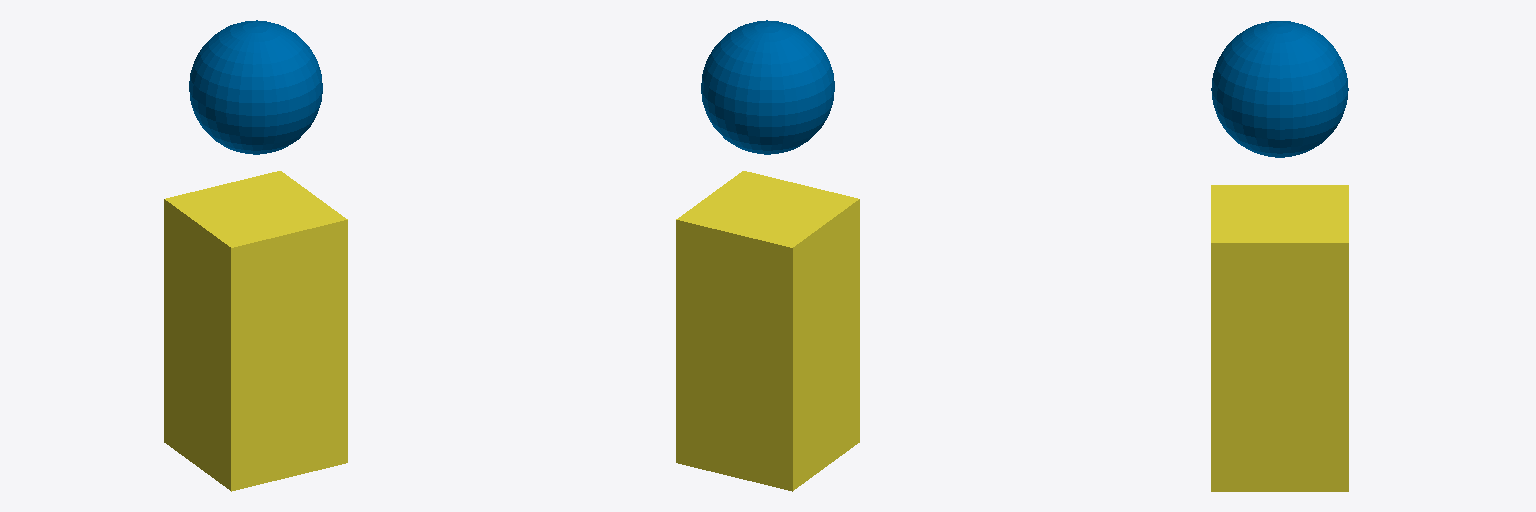
URDF robot description (branching_geometry):
<?xml version="1.0" ?>
<robot name="branching_geometry">

  <joint name="world_joint" type="fixed">
    <parent link="world"/>
    <child link="base_link"/>
    <origin rpy="0.0 0.0 0.0" xyz="0.0 0.0 0.0"/>
  </joint>
  <joint name="stub_joint" type="fixed">
    <parent link="base_link"/>
    <child link="stub_link"/>
    <origin rpy="0.0 0.0 0.0" xyz="0.1 0.0 0.0"/>
  </joint>
  <joint name="joint1" type="continuous">
    <parent link="base_link"/>
    <child link="link1"/>
    <origin rpy="0.0 0.0 0.0" xyz="0.0 0.0 0.1"/>
    <axis xyz="0 0 1"/>
  </joint>
  <joint name="joint2" type="continuous">
    <parent link="link1"/>
    <child link="link2"/>
    <origin rpy="0.0 0.0 0.0" xyz="0.0 0.0 0.2"/>
    <axis xyz="0 1 0"/>
  </joint>
  <joint name="leafA_joint" type="fixed">
    <parent link="link2"/>
    <child link="leafA_link"/>
    <origin rpy="0 0 0" xyz="0.05 0 0"/>
  </joint>
  <joint name="leafB_joint" type="fixed">
    <parent link="link2"/>
    <child link="leafB_link"/>
    <origin rpy="0 0 0" xyz="-0.05 0 0"/>
  </joint>

  <link name="world"/>
  <link name="base_link">
    <inertial>
      <mass value="1.0"/>
      <origin rpy="0 0 0" xyz="0.0 0.0 0.0"/>
      <inertia ixx="0.01" ixy="0.0" ixz="0.0" iyy="0.01" iyz="0.0" izz="0.01"/>
    </inertial>
  </link>
  <link name="stub_link"/>
  <link name="link1">
    <inertial>
      <mass value="1.0"/>
      <origin rpy="0 0 0" xyz="0.0 0.0 0.0"/>
      <inertia ixx="0.01" ixy="0.0" ixz="0.0" iyy="0.01" iyz="0.0" izz="0.01"/>
    </inertial>
    <visual>
      <geometry>
        <box size="0.1 0.1 0.2"/>
      </geometry>
    </visual>
  </link>
  <link name="link2">
    <inertial>
      <mass value="1.0"/>
      <origin rpy="0 0 0" xyz="0.0 0.0 0.0"/>
      <inertia ixx="0.01" ixy="0.0" ixz="0.0" iyy="0.01" iyz="0.0" izz="0.01"/>
    </inertial>
    <visual>
      <geometry>
        <sphere radius="0.05"/>
      </geometry>
    </visual>
  </link>
  <link name="leafA_link"/>
  <link name="leafB_link"/>
</robot>

--- What the picture shows (computed from the rendered views, not written in the file) ---
The picture shows the robot from 3 angles, left to right: view 1: azimuth 30°, elevation 25°; view 2: azimuth 150°, elevation 25°; view 3: azimuth 270°, elevation 25°; orthographic projection.
Robot: branching_geometry — 7 links, 6 joints (2 continuous, 4 fixed); root link world; default pose: all joints at 0.
Links seen in each view (by area): view 1: link1, link2; view 2: link1, link2; view 3: link1, link2.
Boxes of the visible links, box(x1,y1,x2,y2) form: link1: box(164, 171, 347, 491); link2: box(189, 20, 322, 154); link1: box(676, 171, 859, 491); link2: box(701, 20, 834, 154); link1: box(1211, 185, 1348, 491); link2: box(1211, 21, 1348, 157).
Bounding box of the posed robot: 0.1 × 0.1 × 0.35 m (x, y, z).
Geometry: primitives only (box / cylinder / sphere), no mesh files.
